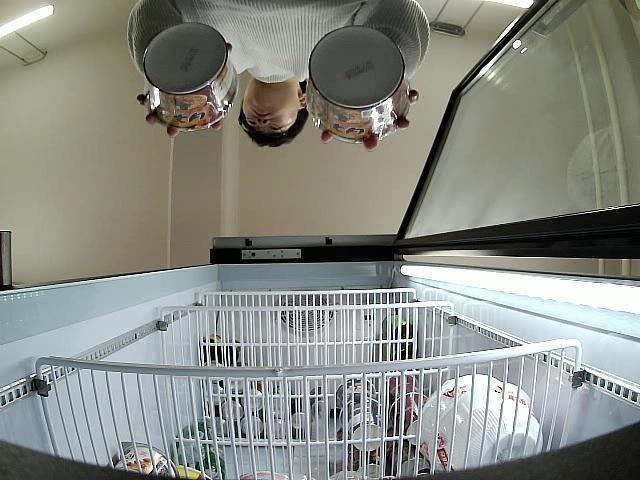05_nuguri_L: (306, 24, 411, 144), (143, 21, 240, 130)
